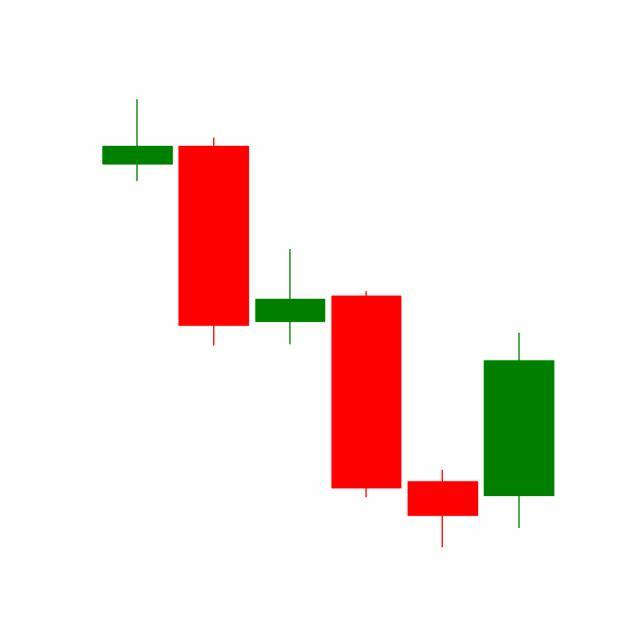Three Outside Up-Down: (252, 245, 482, 549)
